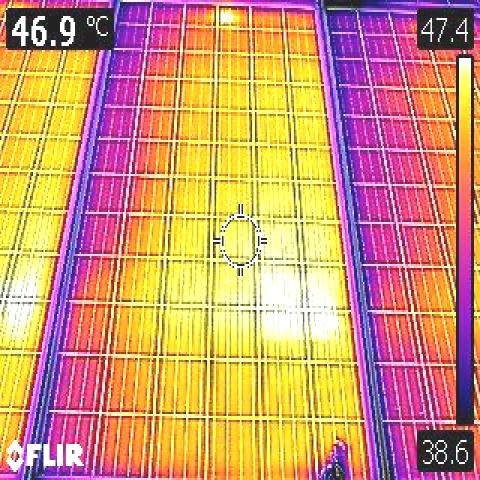fault: (258, 273, 338, 340), (0, 276, 40, 337), (208, 5, 237, 29)
